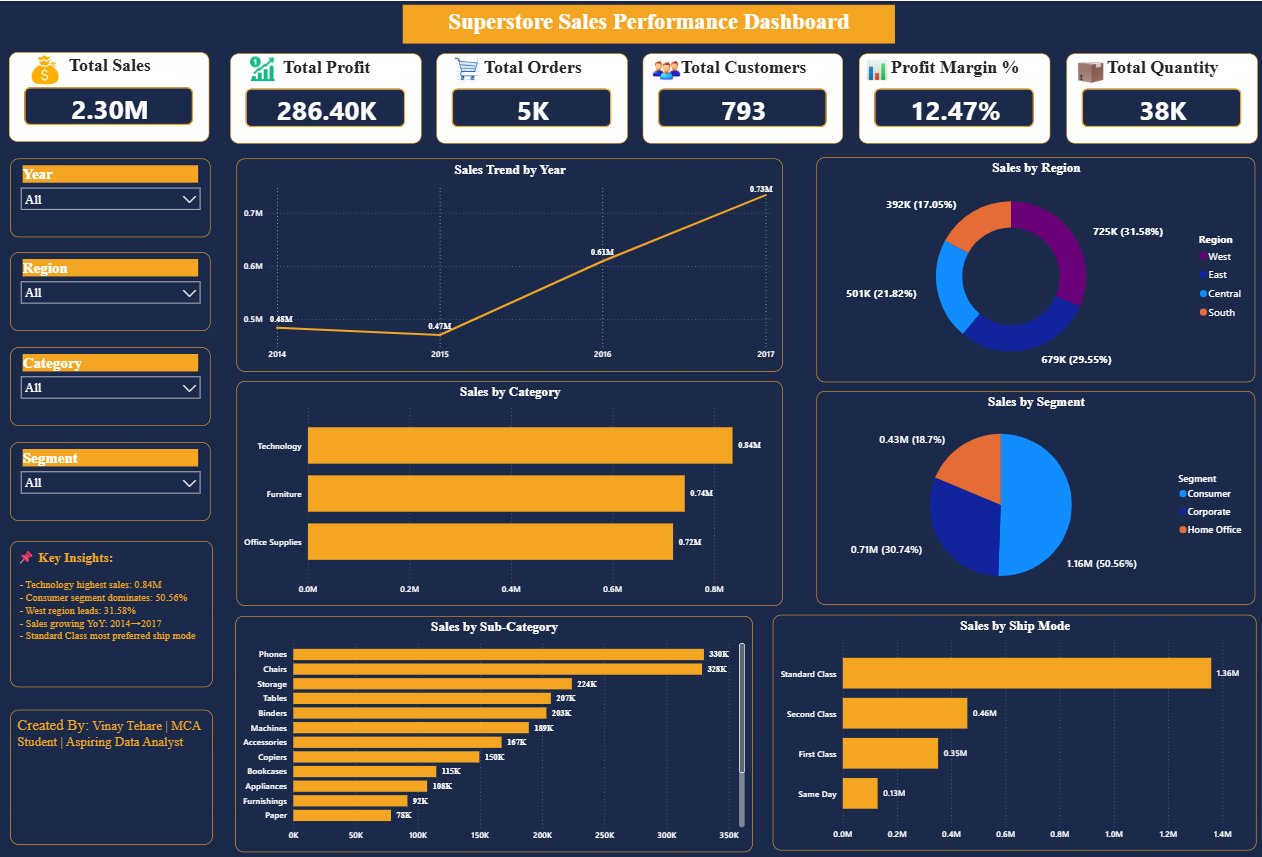

The dashboard page shown, as its layout file describes it:
{"tool":"powerbi","page":{"name":"Page 1","canvas":[1800,1220],"ordinal":0},"visuals":[{"type":"cardVisual","title":"Total Profit","fields":{"Data":["Sample - Superstore.Total Profit"]},"box":[329,74,272,128],"z":0},{"type":"cardVisual","title":"Total Orders","fields":{"Data":["Sample - Superstore.Total Orders"]},"box":[622,74,272,128],"z":1000},{"type":"cardVisual","title":"Total Customers","fields":{"Data":["Sample - Superstore.Total Customers"]},"box":[915,74,285,128],"z":2000},{"type":"cardVisual","title":"Profit Margin %","fields":{"Data":["Sample - Superstore.Profit Margin%"]},"box":[1223,74,272,128],"z":3000},{"type":"cardVisual","title":"Total Quantity","fields":{"Data":["Sample - Superstore.Total Quantity"]},"box":[1518,74,272,128],"z":4000},{"type":"cardVisual","title":"Total Sales","fields":{"Data":["Sample - Superstore.Total Sales"]},"box":[15,73,285,127],"z":5000},{"type":"textbox","box":[575,5,700,55],"z":6000},{"type":"clusteredBarChart","title":"Sales by Category","fields":{"Category":["Sample - Superstore.Category"],"Y":["Sample - Superstore.Total Sales"]},"box":[338,540,777,320],"z":7000},{"type":"donutChart","title":" Sales by Region","fields":{"Category":["Sample - Superstore.Region"],"Y":["Sample - Superstore.Total Sales"]},"box":[1162,222,624,320],"z":8000},{"type":"lineChart","title":" Sales Trend by Year","fields":{"Y":["Sample - Superstore.Total Sales"],"Category":["Sample - Superstore.Order Date.Variation.Date Hierarchy.Year","Sample - Superstore.Order Date.Variation.Date Hierarchy.Quarter","Sample - Superstore.Order Date.Variation.Date Hierarchy.Month","Sample - Superstore.Order Date.Variation.Date Hierarchy.Day"]},"box":[337,224,777,303],"z":9000},{"type":"clusteredBarChart","title":" Sales by Sub-Category","fields":{"Category":["Sample - Superstore.Sub-Category"],"Y":["Sample - Superstore.Total Sales"]},"box":[336,874,736,336],"z":10000},{"type":"pieChart","title":" Sales by Segment","fields":{"Category":["Sample - Superstore.Segment"],"Y":["Sample - Superstore.Total Sales"]},"box":[1162,555,624,304],"z":11000},{"type":"clusteredBarChart","title":"Sales by Ship Mode","fields":{"Category":["Sample - Superstore.Ship Mode"],"Y":["Sample - Superstore.Total Sales"]},"box":[1100,873,688,335],"z":12000},{"type":"slicer","fields":{"Values":["Sample - Superstore.Order Date"]},"box":[16,224,285,112],"z":13000},{"type":"slicer","fields":{"Values":["Sample - Superstore.Region"]},"box":[16,358,285,112],"z":14000},{"type":"slicer","fields":{"Values":["Sample - Superstore.Category"]},"box":[16,492,285,112],"z":15000},{"type":"slicer","fields":{"Values":["Sample - Superstore.Segment"]},"box":[16,628,285,112],"z":16000},{"type":"image","box":[35,76,60,45],"z":17000},{"type":"image","box":[351,75,50,45],"z":18000},{"type":"image","box":[642,72,50,48],"z":19000},{"type":"image","box":[930,79,39,39],"z":20000},{"type":"image","box":[1225,76,48,42],"z":21000},{"type":"image","box":[1531,81,44,38],"z":22000},{"type":"textbox","box":[16,768,288,208],"z":23000},{"type":"textbox","box":[16,1008,288,192],"z":24000}]}

Visuals, with their boxes in screenshot pixels (x1, y1, x2, y2), scaled from the page's 1800x1220 canvas onto the 1262x857 screenshot:
"Total Profit" cardVisual: [231,52,421,142]
"Total Orders" cardVisual: [436,52,627,142]
"Total Customers" cardVisual: [642,52,841,142]
"Profit Margin %" cardVisual: [857,52,1048,142]
"Total Quantity" cardVisual: [1064,52,1255,142]
"Total Sales" cardVisual: [11,51,210,140]
textbox: [403,4,894,42]
"Sales by Category" clusteredBarChart: [237,379,782,604]
" Sales by Region" donutChart: [815,156,1252,381]
" Sales Trend by Year" lineChart: [236,157,781,370]
" Sales by Sub-Category" clusteredBarChart: [236,614,752,850]
" Sales by Segment" pieChart: [815,390,1252,603]
"Sales by Ship Mode" clusteredBarChart: [771,613,1254,849]
slicer - Sample - Superstore.Order Date: [11,157,211,236]
slicer - Sample - Superstore.Region: [11,251,211,330]
slicer - Sample - Superstore.Category: [11,346,211,424]
slicer - Sample - Superstore.Segment: [11,441,211,520]
image: [25,53,67,85]
image: [246,53,281,84]
image: [450,51,485,84]
image: [652,55,679,83]
image: [859,53,893,83]
image: [1073,57,1104,84]
textbox: [11,539,213,686]
textbox: [11,708,213,843]
